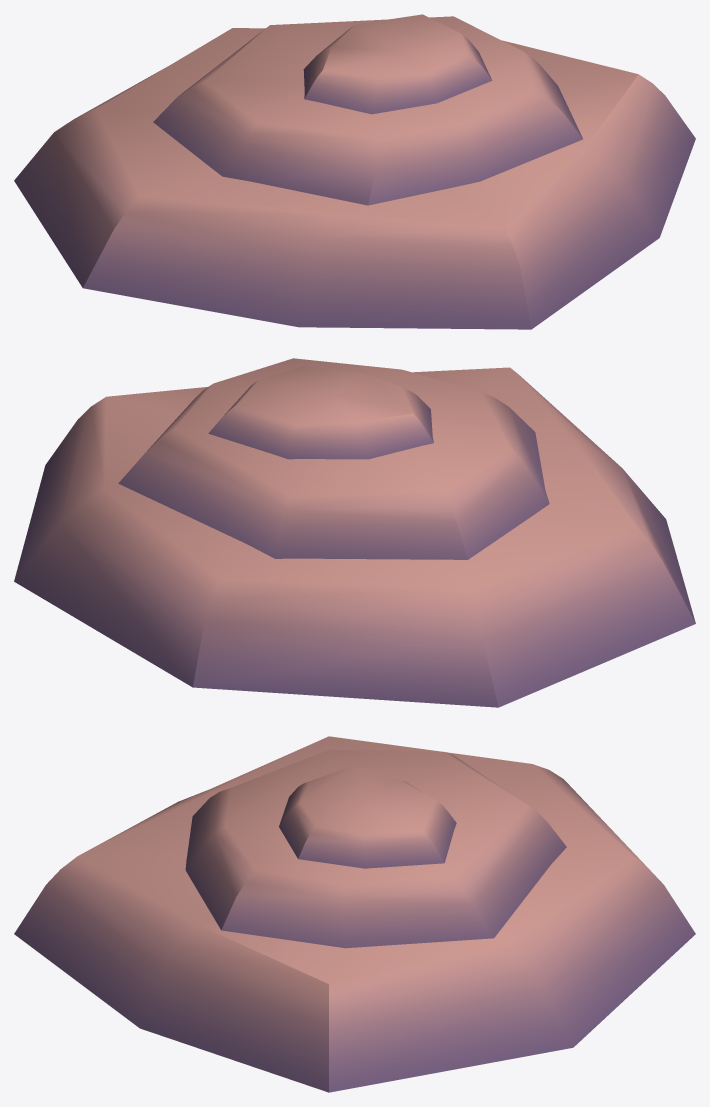
The picture shows the model from 3 angles, top to bottom: view 1: azimuth 30°, elevation 25°; view 2: azimuth 150°, elevation 25°; view 3: azimuth 270°, elevation 25°; orthographic projection. The views are drawn at different scales.
Parts seen in each view (by area): view 1: Null_1; view 2: Null_1; view 3: Null_1.
Boxes of the visible parts, <box> form: Null_1: <box>14,14,695,329</box>; Null_1: <box>14,358,695,707</box>; Null_1: <box>14,736,695,1092</box>.
Size of the model in its own units: 62.19 by 14.18 by 58.78.
